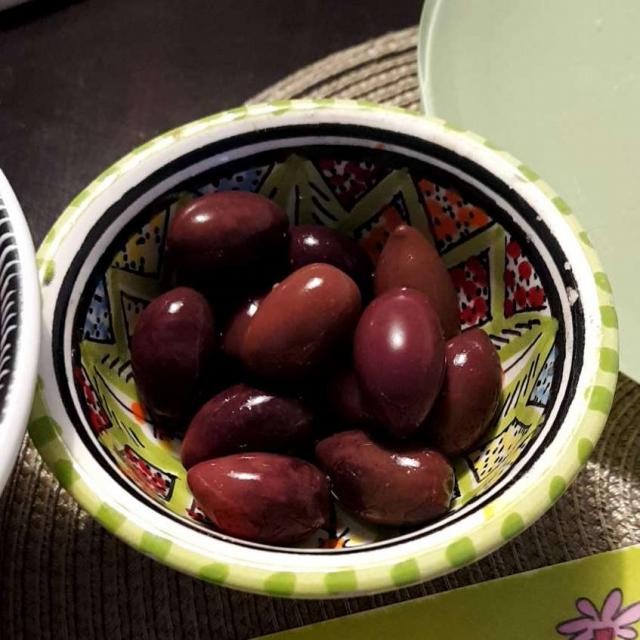black-olives: (133, 189, 498, 539)
